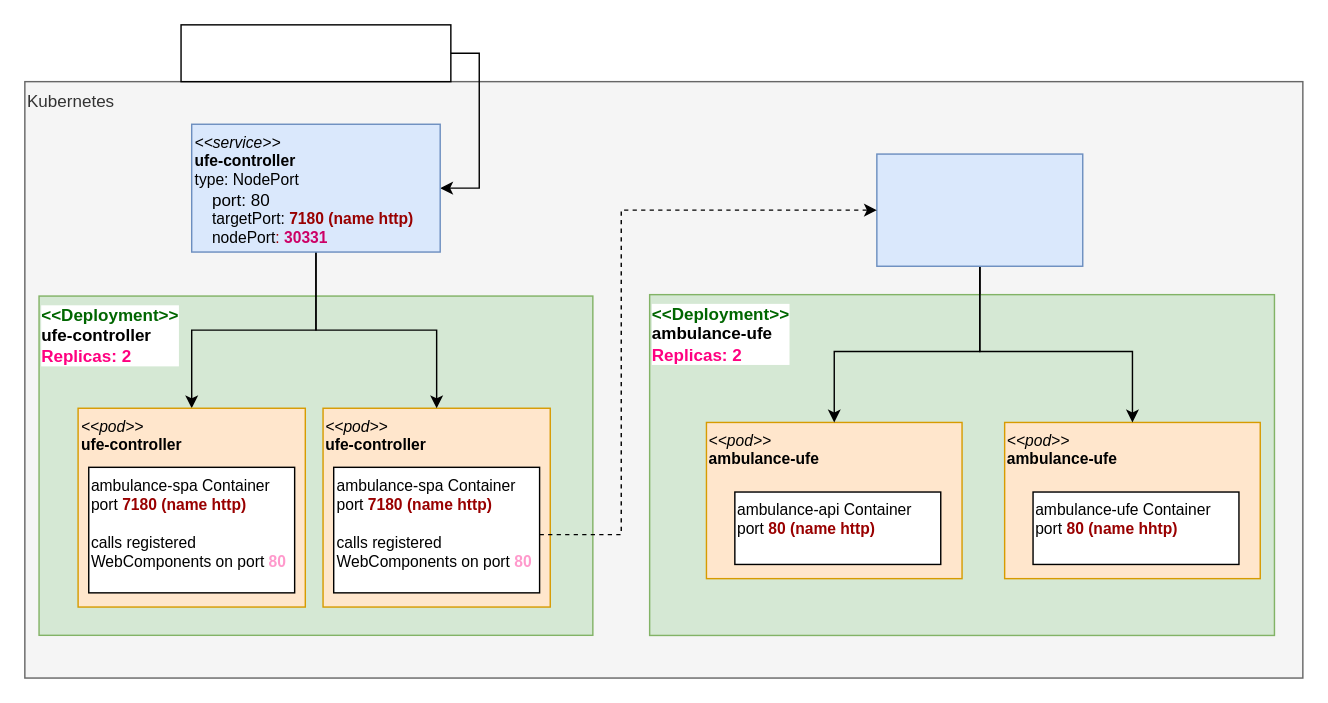
The diagram is 1328 pixels wide and 703 high, and some of its shapes have lost their labels. The shapes that lost their labels are listed below. From the top down, each one's centre as x and y in pixels, then its label:
point 315,52: nodePort : 30331
point 979,209: <<service>> ambulance-ufe type: ClusterIP port: 80 targetPort: 80 (name http)
